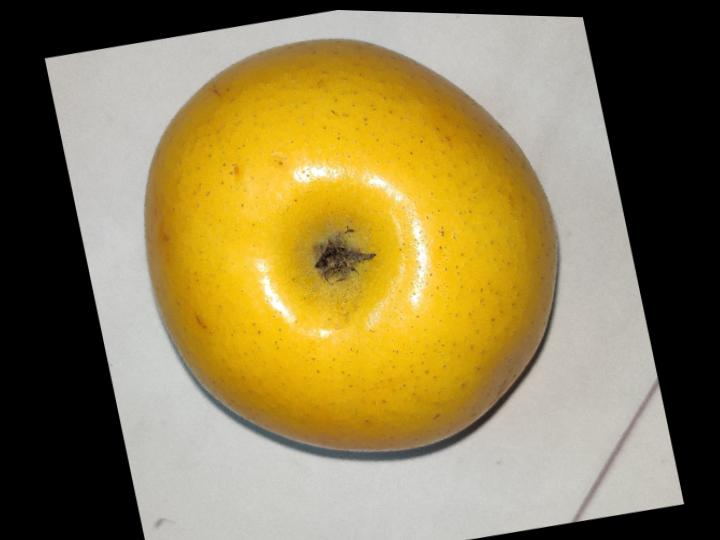apple: (145, 39, 555, 454)
